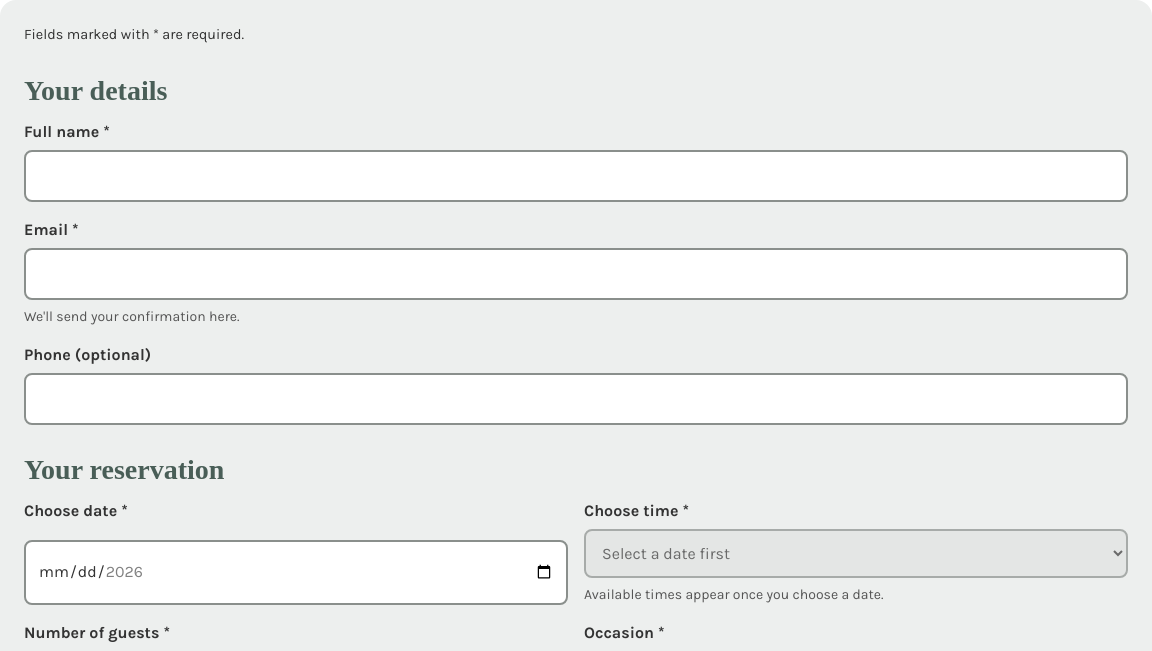
Scenario: BookingForm › shows an accessible error message after leaving an invalid field
This screenshot has width=1152, height=651.
In the field labelled "Email *": x=576, y=274 [24,248,1128,300], type "not-an-email"
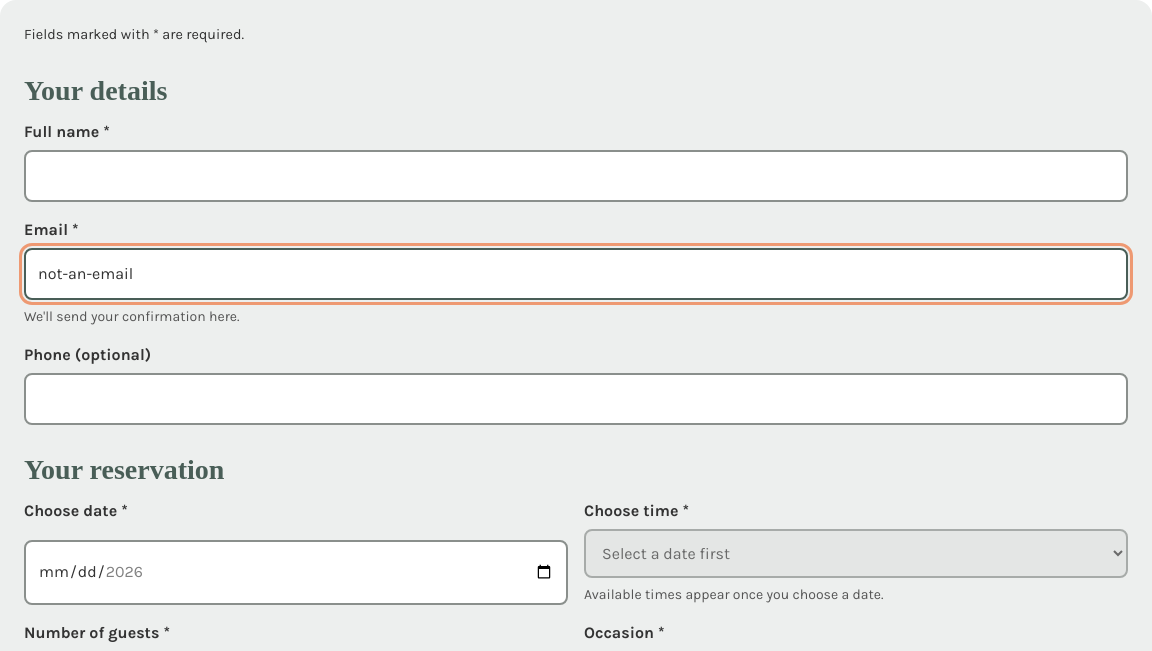
Press Tab
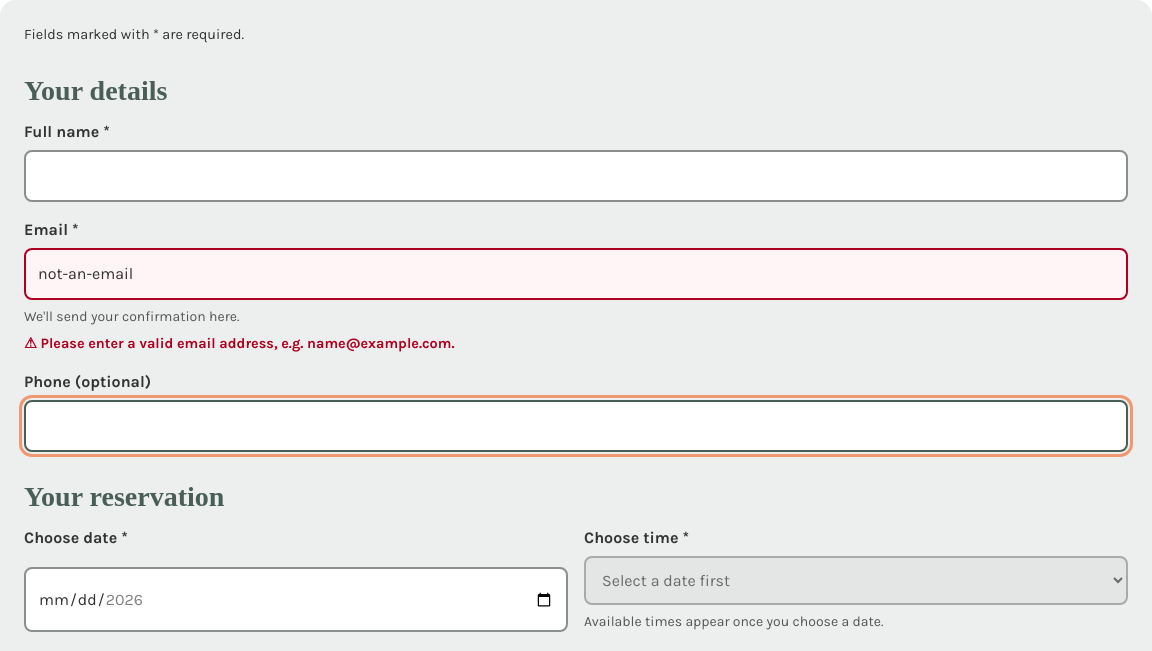
Expected: the message shows "valid email address", [40,335,454,352]
